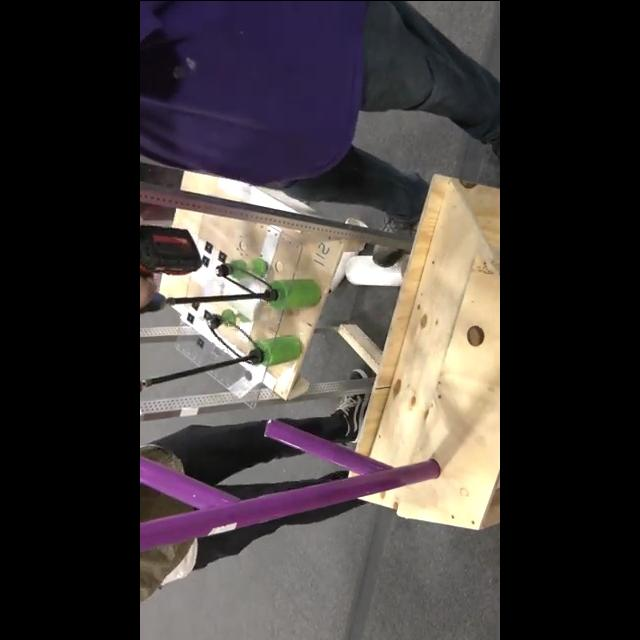CORAL: (346, 255, 409, 285)
